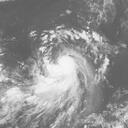cyclone: (34, 49, 90, 105)
